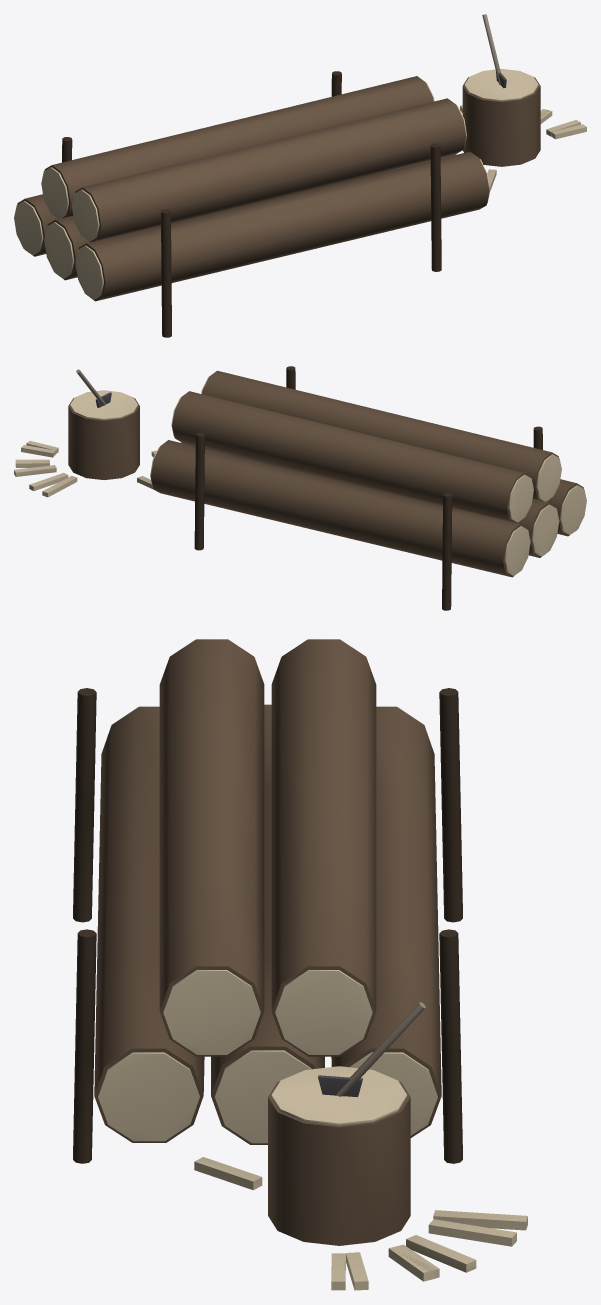
Rendered from log_pile.glb.
3 views of the same model, one above another, from view 1: azimuth 30°, elevation 25°; view 2: azimuth 150°, elevation 25°; view 3: azimuth 270°, elevation 25° (orthographic). The views are drawn at different scales.
Visible parts, largest first — view 1: log_pile; view 2: log_pile; view 3: log_pile.
Part boxes in pixels (x1,y1,x2,y2): log_pile: (14,14,586,337); log_pile: (14,366,586,610); log_pile: (73,639,527,1290).
Size of the model in its own units: 4.86 by 1.31 by 1.91.
